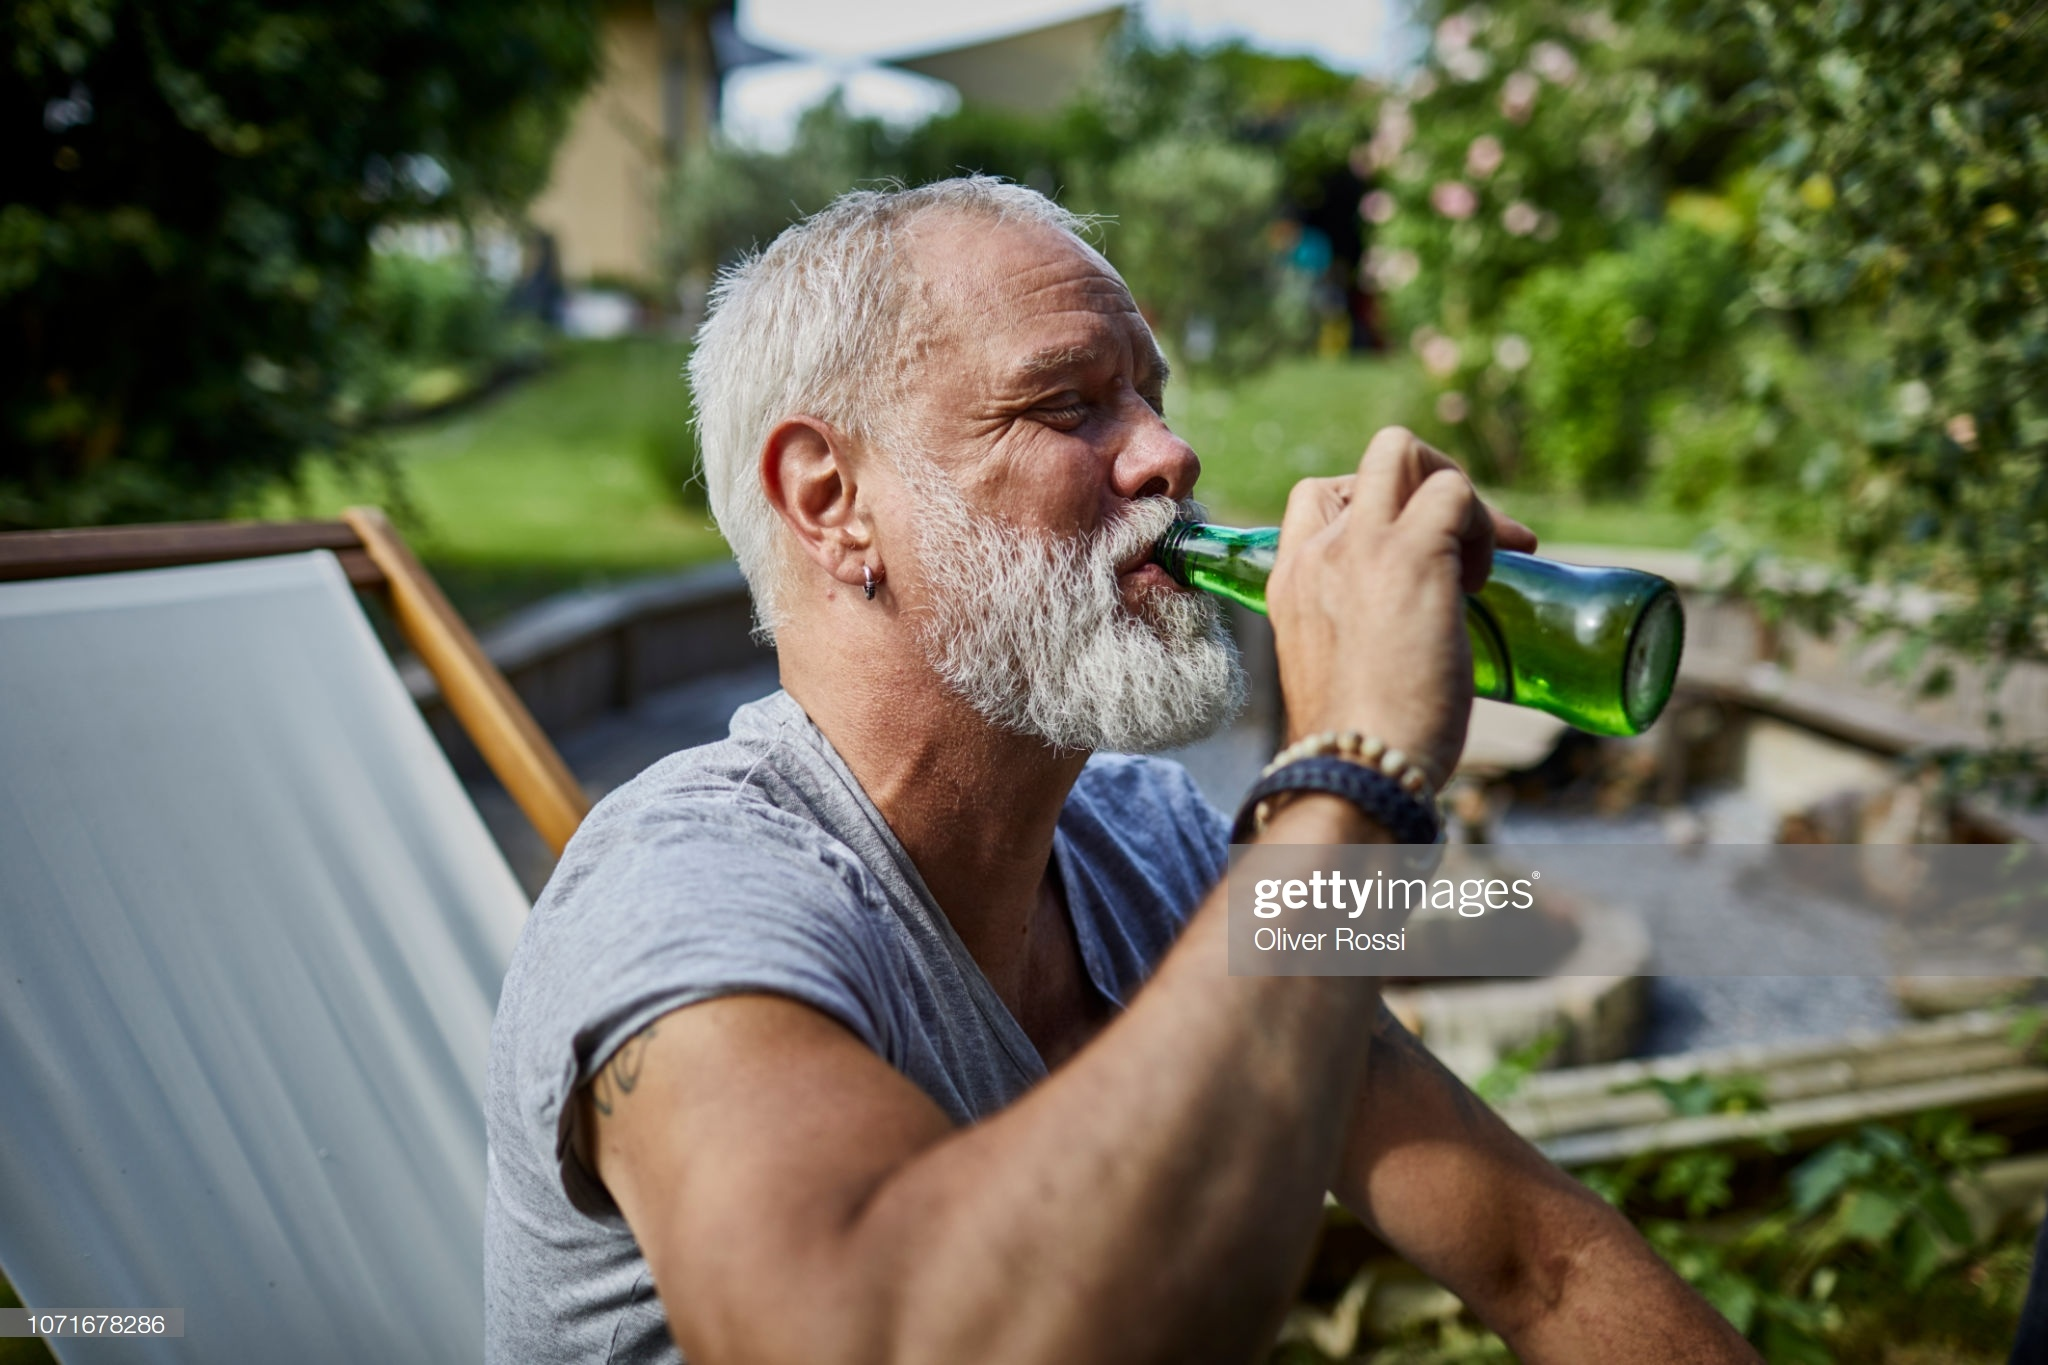beerBottle: (1142, 510, 1692, 762)
